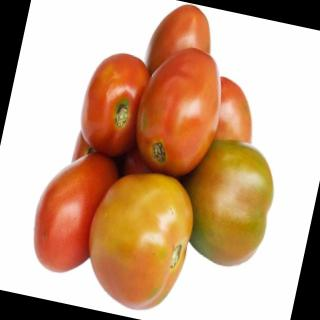Tomat: (76, 161, 203, 318), (127, 39, 234, 184)
